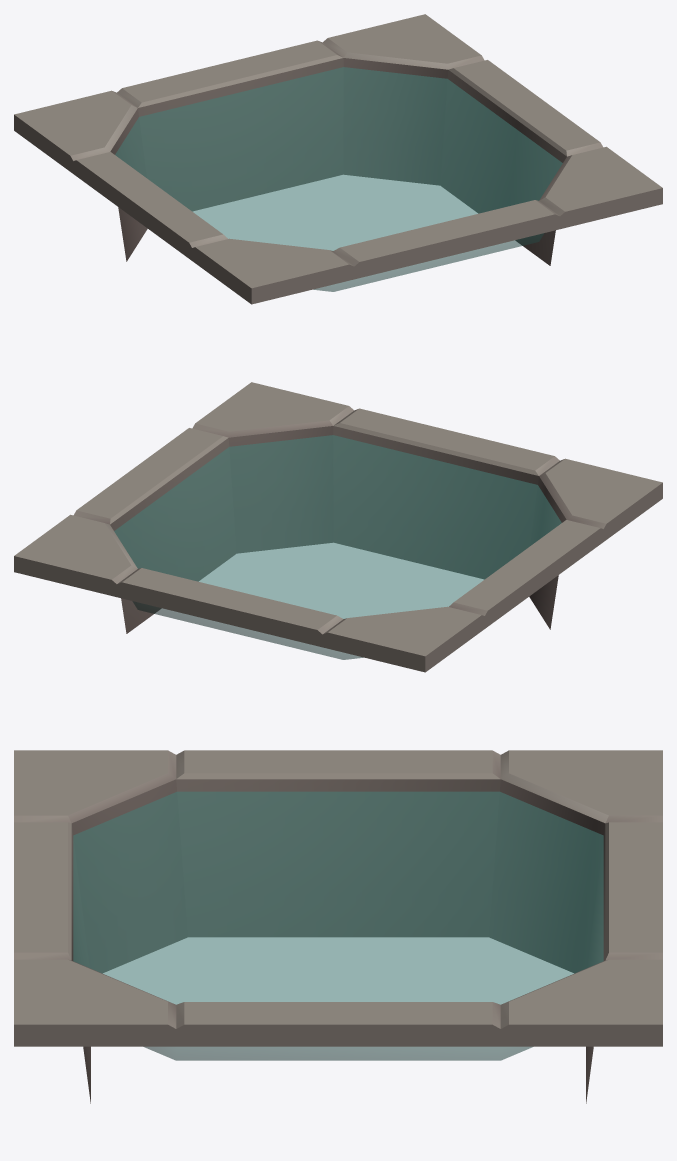
File: floor_water_pool_A.glb
3 views of the same model, one above another, from view 1: azimuth 30°, elevation 25°; view 2: azimuth 150°, elevation 25°; view 3: azimuth 270°, elevation 25° (orthographic). The views are drawn at different scales.
Visible parts, largest first — view 1: Item; view 2: Item; view 3: Item.
Boxes of the visible parts, <box> form: Item: <box>14,14,662,304</box>; Item: <box>14,382,662,672</box>; Item: <box>14,750,662,1103</box>.
Size of the model in its own units: 4 by 1.05 by 4.
Materials: 2 (2 with a texture image).
